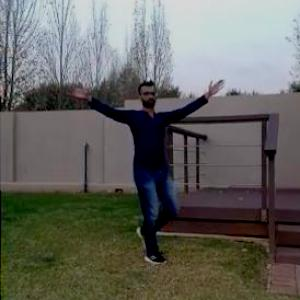takeoff: (59, 72, 225, 273)
